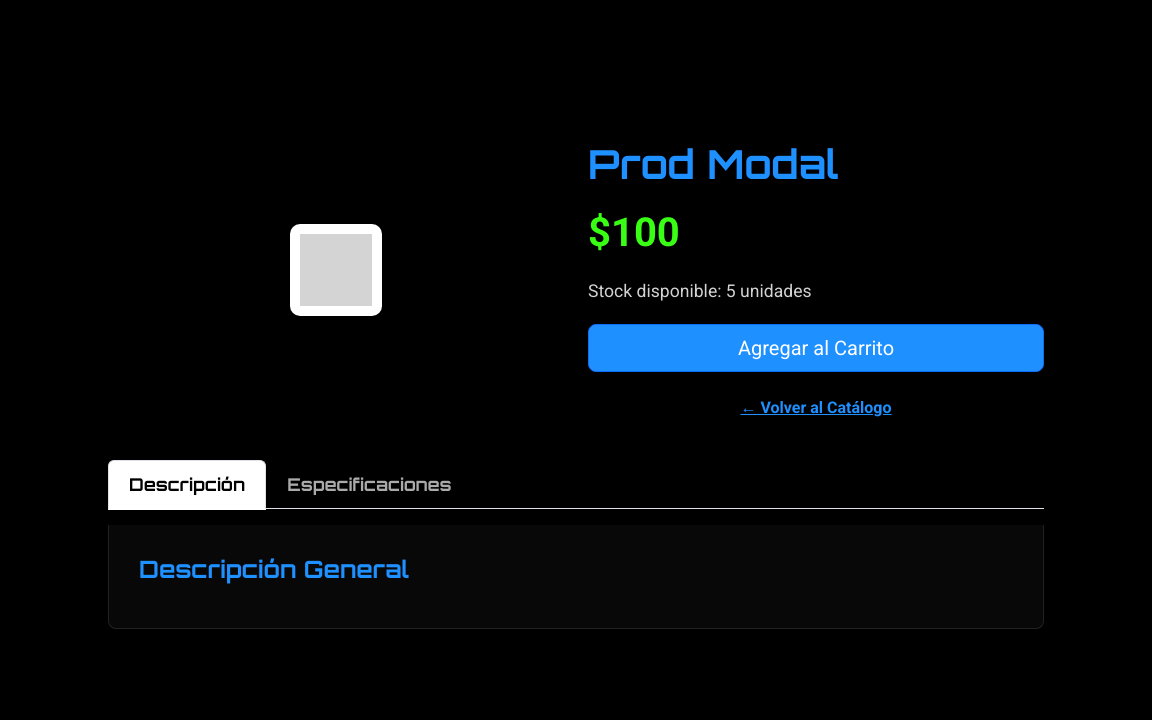
Test case: ProductDetailPage › abre Y CIERRA el modal al agregar al carrito
Expected: the heading "Prod Modal" is shown, [588,139,839,189]
Click the button "Agregar al Carrito": coordinates (816, 348) [588,324,1044,372]
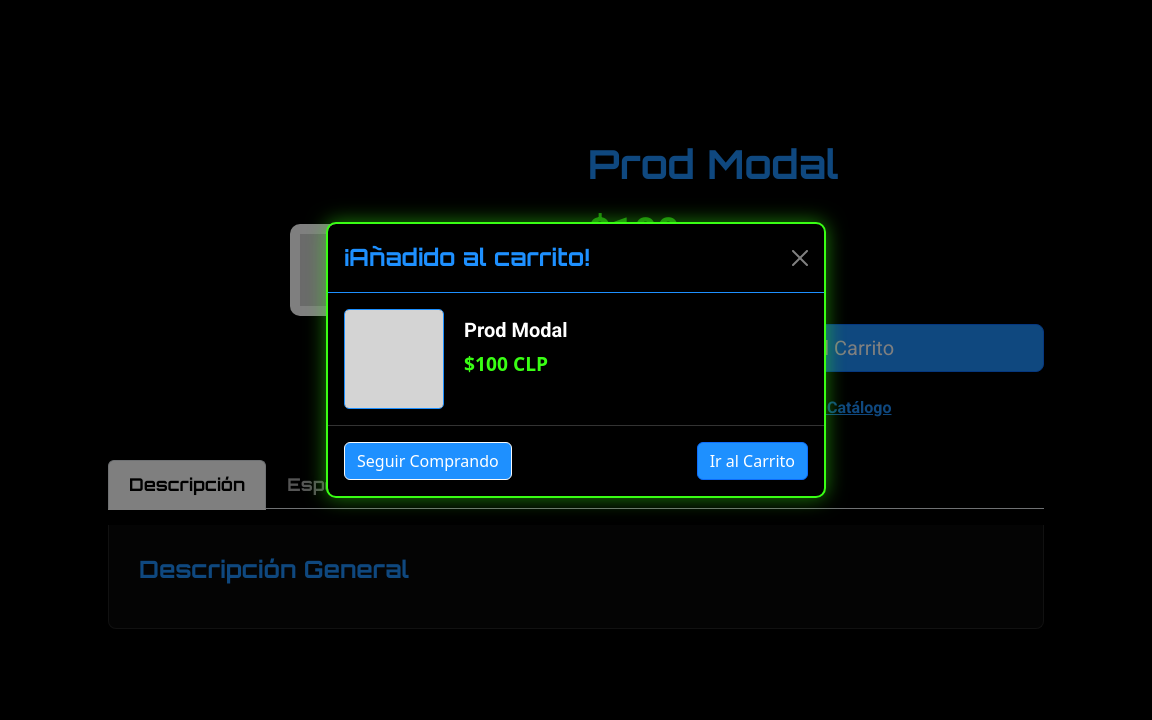
Now the text "¡Añadido al carrito!" is shown, box [344,240,589,276]
Click the button "Seguir Comprando": coordinates (428, 461) [344,442,512,480]
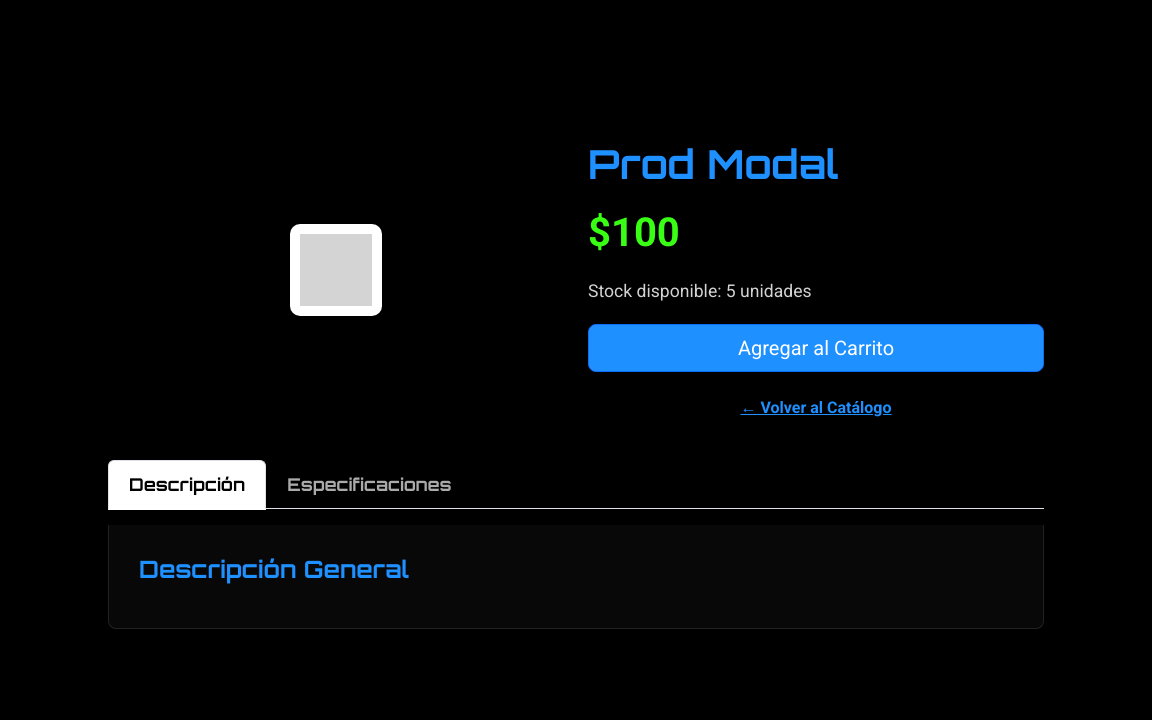
Now the text "¡Añadido al carrito!" is gone
